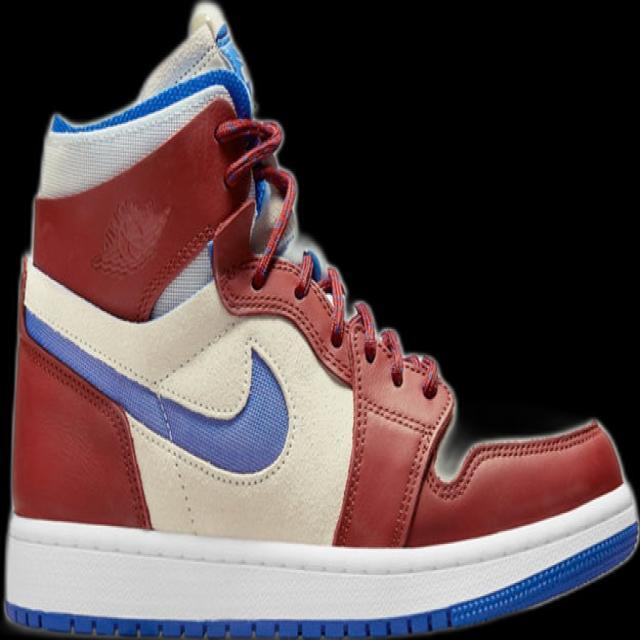J1_InsoleChar: (0, 0, 639, 639)
J1_StitchPattern: (209, 111, 622, 543), (2, 509, 638, 639), (211, 112, 442, 399), (331, 300, 452, 548), (212, 113, 301, 290), (430, 415, 606, 500), (345, 298, 442, 400), (387, 412, 444, 548), (86, 194, 172, 280), (460, 416, 604, 464), (316, 262, 350, 344)
